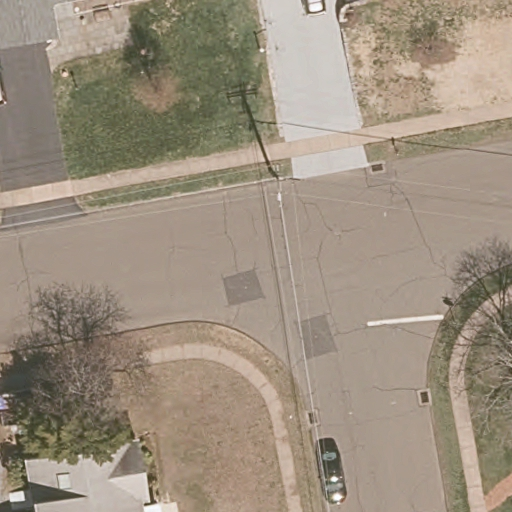DT: (270, 162, 285, 203)
